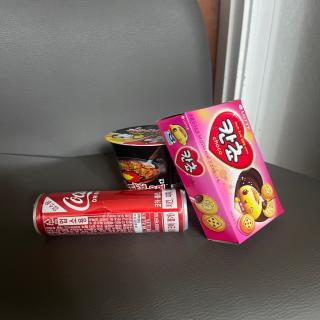cocacola: (28, 188, 195, 236)
